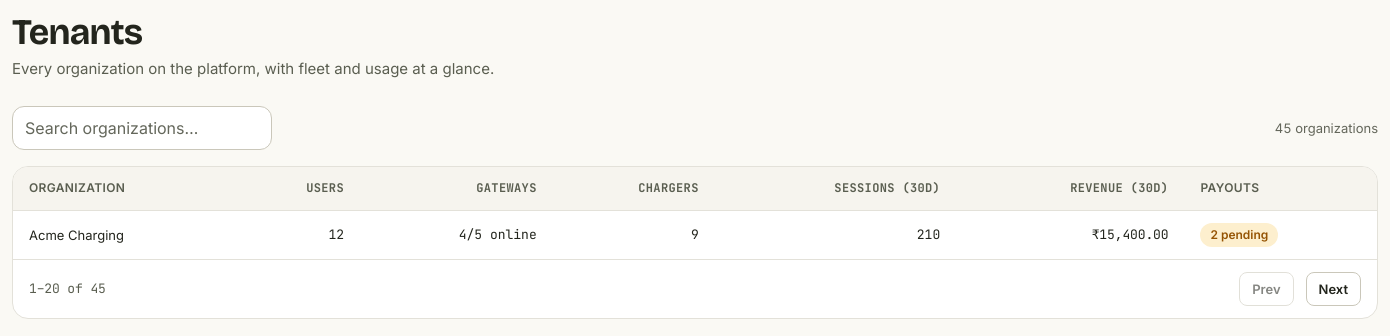
Scenario: AdminTenants › pages forward through DataTable pagination
The image size is (1390, 336).
expect the text "Acme Charging" is shown: met, box x1=13 y1=210 x2=238 y2=259
Click the button "Next": (1333,289) x1=1306 y1=272 x2=1361 y2=306
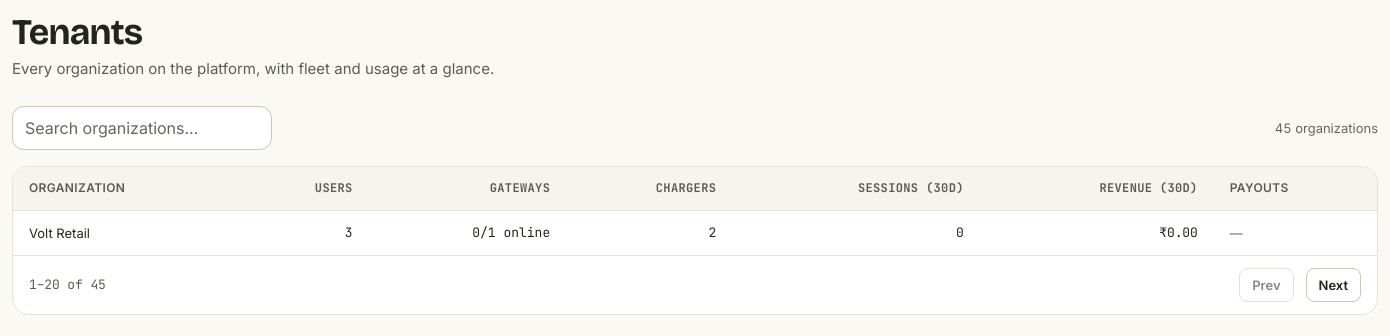
expect the text "Volt Retail" is shown: met, box x1=13 y1=210 x2=243 y2=255
